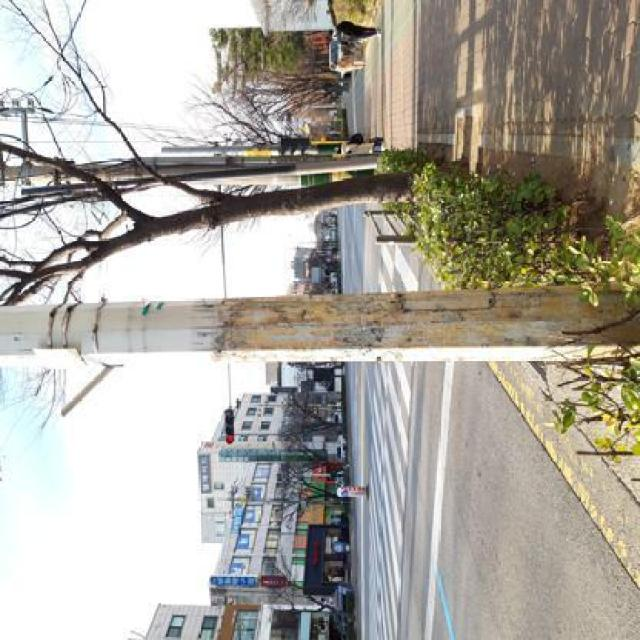pole: (0, 264, 640, 378)
